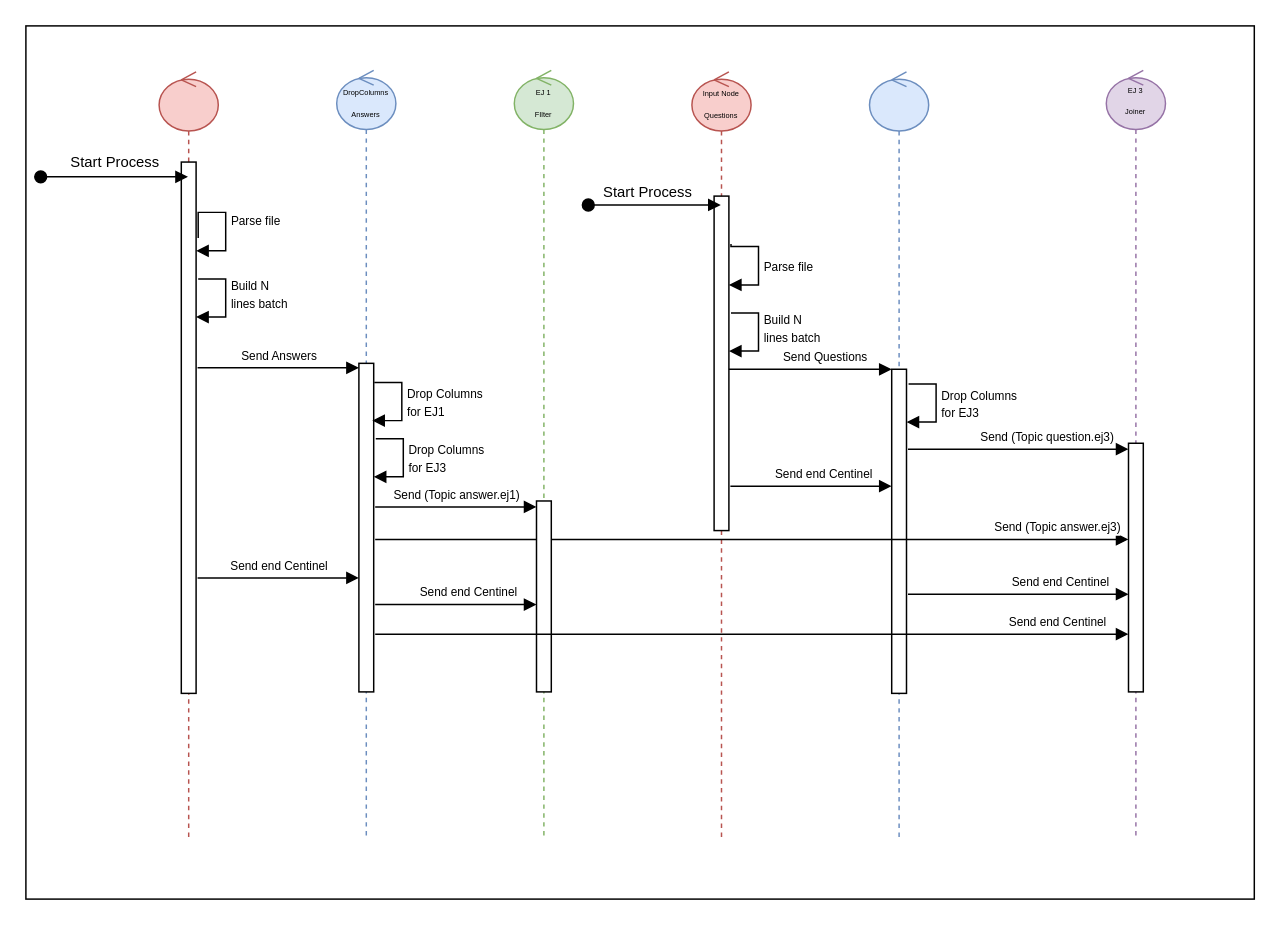
The diagram is 1280 pixels wide and 925 high, and some of its shapes have lost their labels. The box of each missing label's shape, as (x1, y1, x2, y2) in pixels:
DropColumns Questions: (868, 70, 929, 841)
Input Node Answers: (158, 70, 218, 841)
